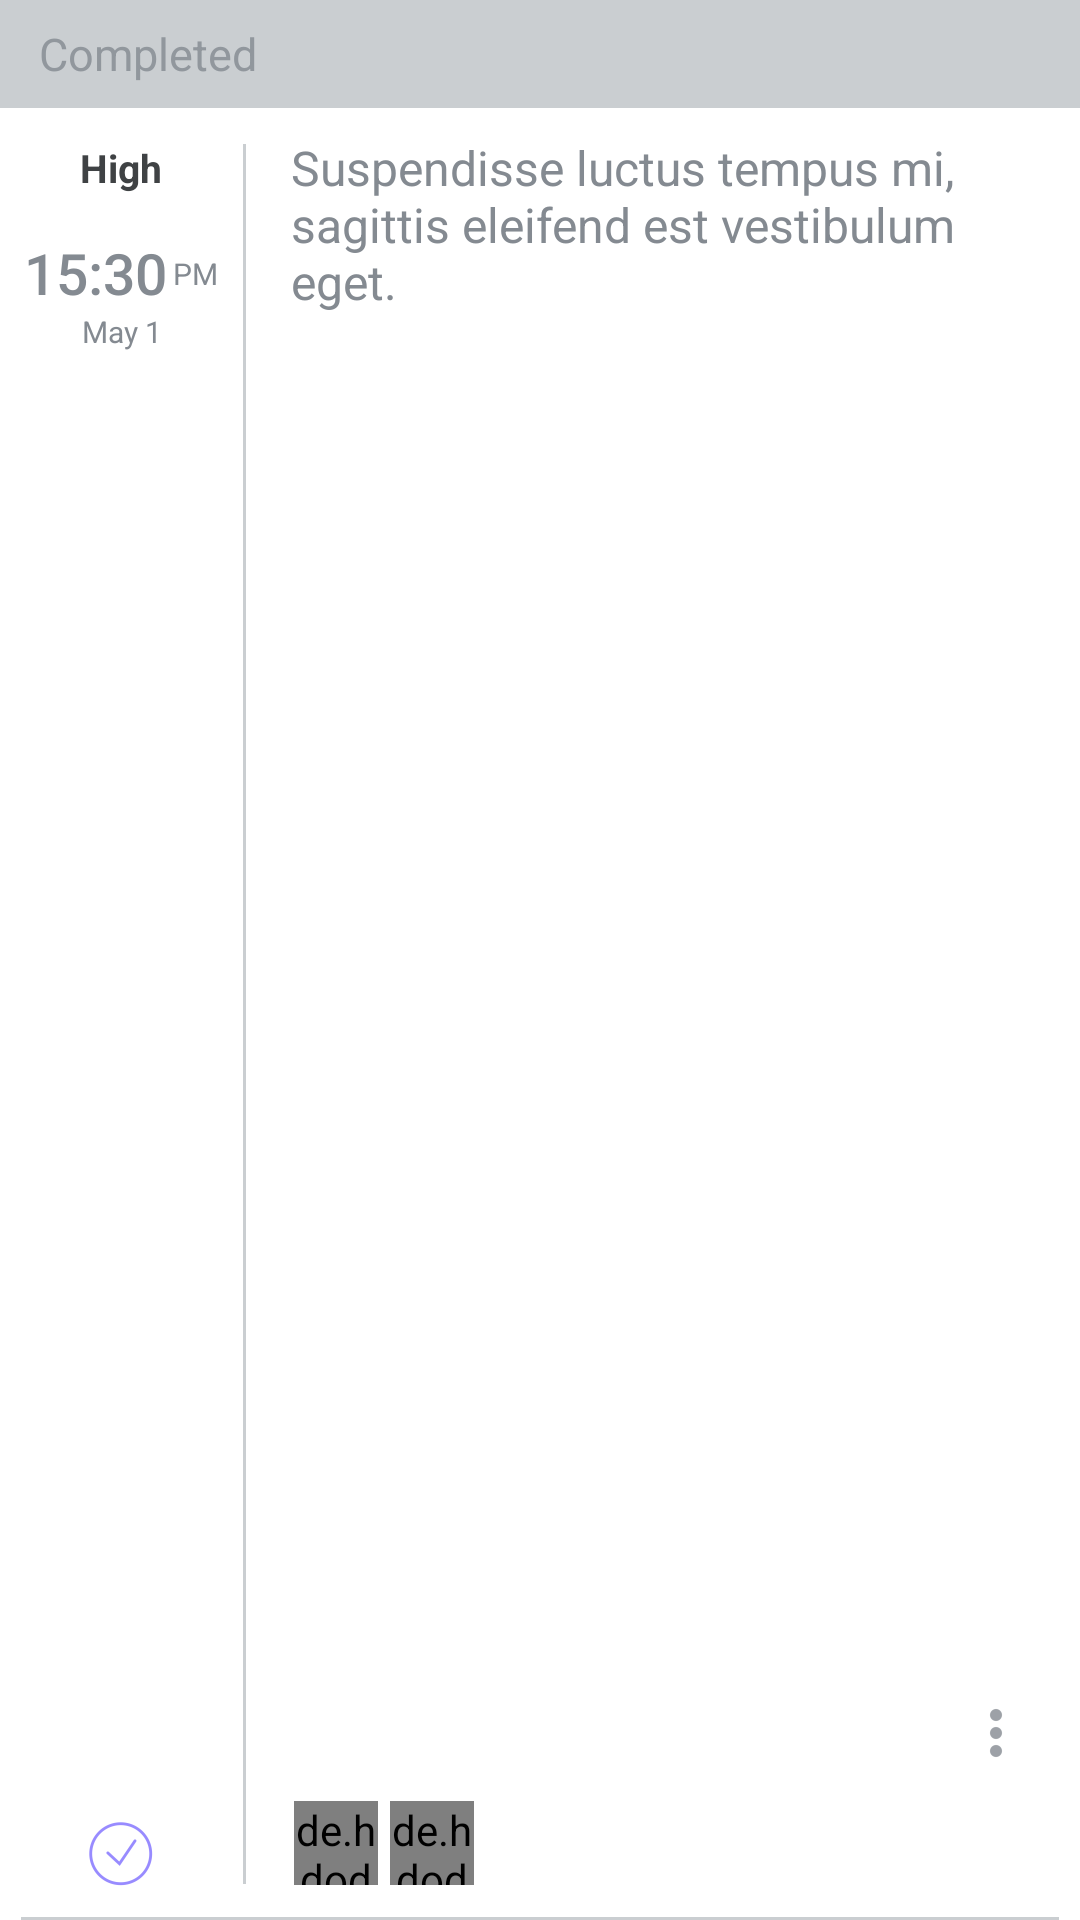

Where to tap for icons on this 1080*1920 app screen, as [x,y]:
task completed: [120,1853]
task more: [996,1733]
